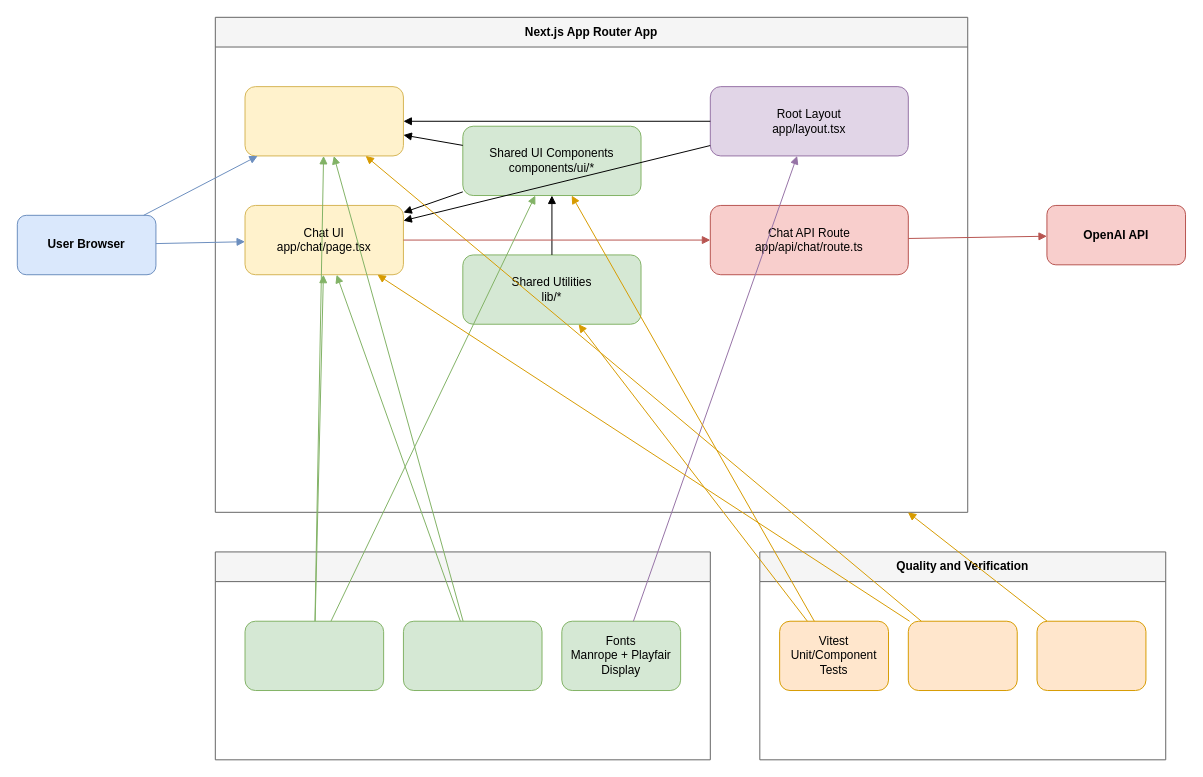
Some shapes in this 1203 by 777 pixel diagram are drawn without their labels. The shapes that lost their labels are listed below. From the top down, each one's box as (x1, y1, x2, y2) in pixels, then its label:
(244, 86, 403, 156): Marketing Site app/page.tsx
(244, 620, 384, 691): Tailwind Config tailwind.config.ts
(214, 551, 710, 760): Styling and Design System
(402, 620, 542, 691): Global Styles app/globals.css
(907, 620, 1017, 691): Playwright E2E Tests
(1036, 620, 1146, 691): TypeScript Strict Mode npm run ts-check
